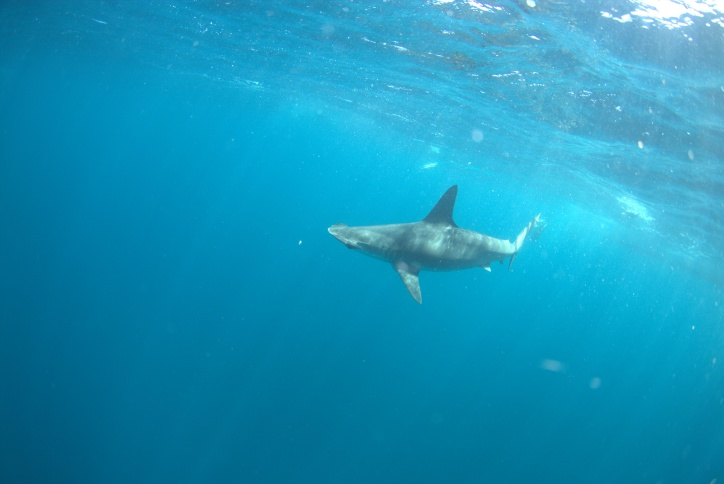Hammer: (304, 172, 558, 329)
